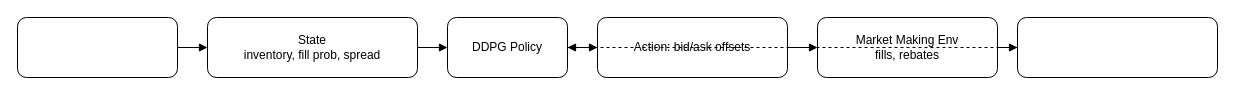
Image size: 1235x95. Some labels were removed from this diagram. The shapes that lost their labels are listed below. From the top down, each one's centre as x and y in pixels, then its label:
At point (97, 47): "Order Book Data".
At point (1117, 47): "Reward spread capture - inventory risk".
